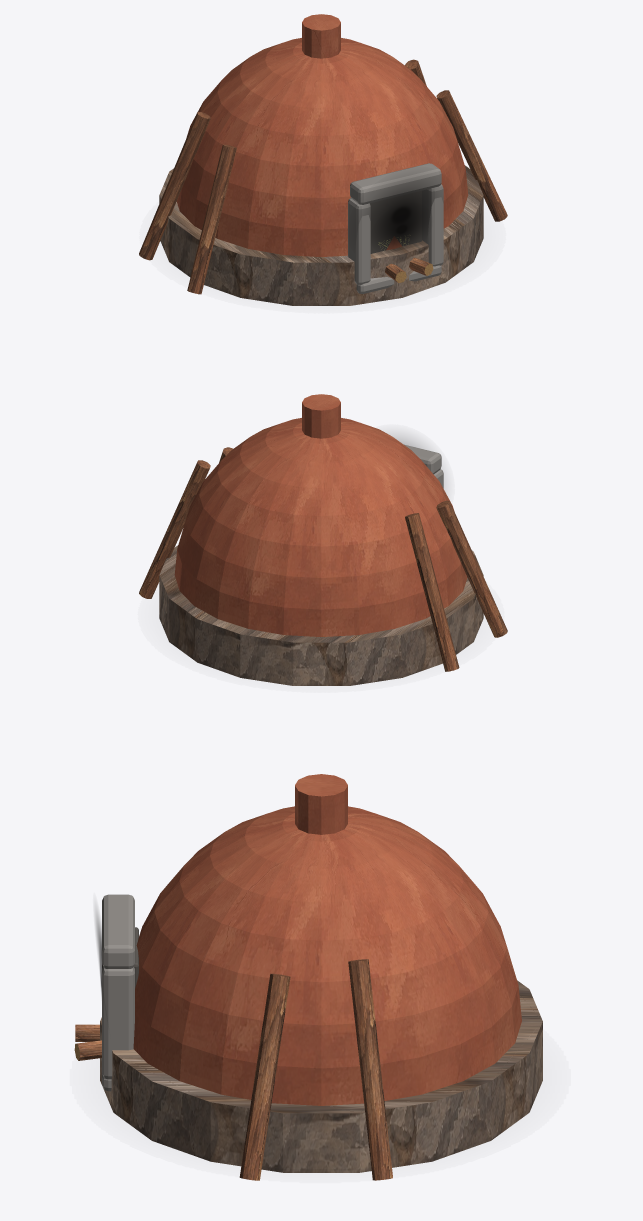
The model's file is kiln.glb.
3 renders of one model, top to bottom at view 1: azimuth 30°, elevation 25°; view 2: azimuth 150°, elevation 25°; view 3: azimuth 270°, elevation 25°, orthographic. The views are drawn at different scales.
Parts seen in each view (by area): view 1: dome, base, sootStain, brace.001, braceB.001, mouthLintel, mouthCavity, braceB, mouthPost, vent, mouthPost.001, sootCore (+1 smaller); view 2: dome, base, brace.001, braceB.001, brace, vent; view 3: dome, base, brace, braceB, mouthPost.001, vent, mouthLintel.
Part boxes in pixels (x1,y1,x2,y2): dome: (176,38,468,256); base: (159,165,483,305); sootStain: (361,177,442,252); brace.001: (139,112,210,260); braceB.001: (187,144,236,294); mouthLintel: (350,163,441,204); mouthCavity: (370,191,421,253); braceB: (436,90,507,221); mouthPost: (348,198,370,284); vent: (302,14,340,58); mouthPost.001: (422,184,443,266); sootCore: (378,208,425,249); dome: (174,418,467,636); base: (159,545,483,685); brace.001: (405,513,459,671); braceB.001: (436,500,507,637); brace: (139,460,210,598); vent: (302,394,340,438); dome: (133,806,521,1105); base: (100,980,542,1172); brace: (348,959,392,1180); braceB: (239,973,290,1180); mouthPost.001: (102,966,134,1079); vent: (295,774,347,834); mouthLintel: (102,894,134,968).
Bounding box in the file's own units: 3 × 1.59 × 3.
Materials: 11 (7 with a texture image).
